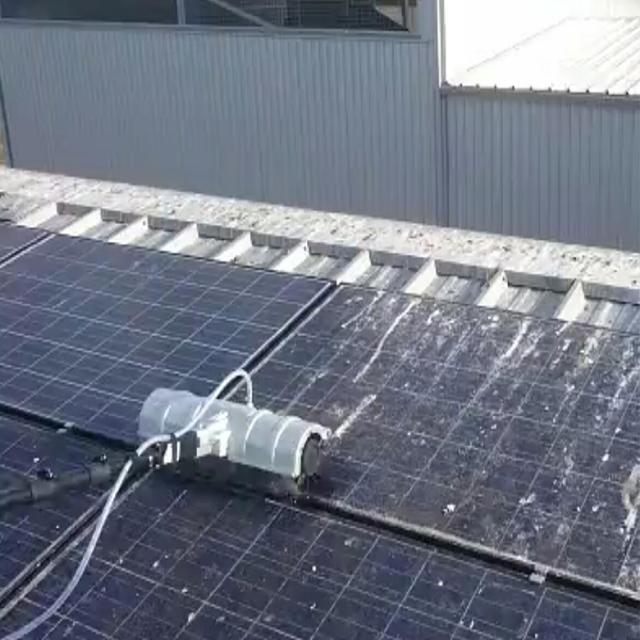dust-solar-panel: (169, 279, 640, 613)
